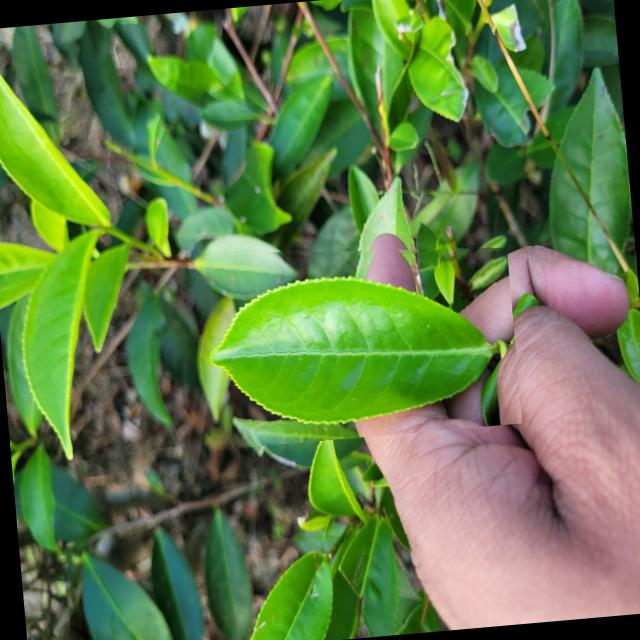Category B(2-4 days): (184, 225, 522, 450)
